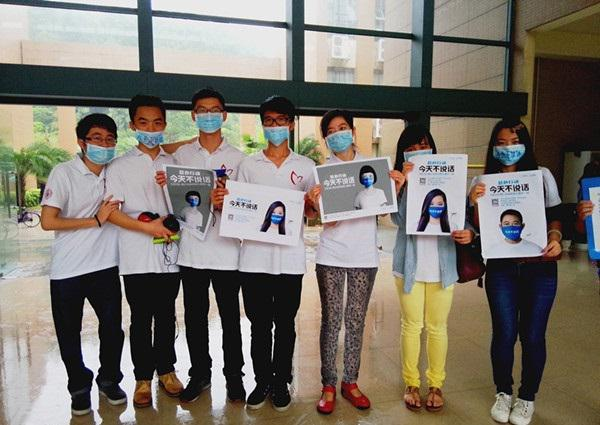OK: (403, 140, 436, 173), (324, 121, 355, 155), (497, 133, 526, 167), (196, 101, 224, 135), (505, 219, 524, 239), (428, 200, 445, 219), (272, 211, 285, 224), (363, 174, 375, 188)
WRONG: (81, 128, 118, 165), (135, 108, 165, 149), (262, 113, 292, 147)
